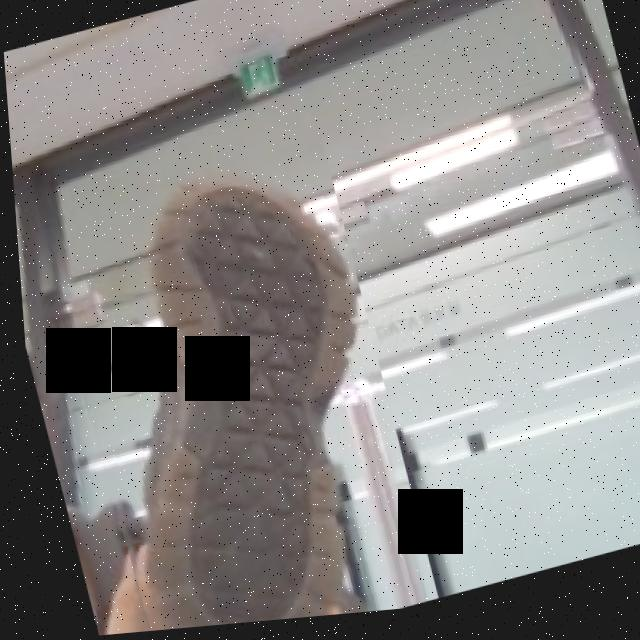shoe: (22, 127, 428, 639)
